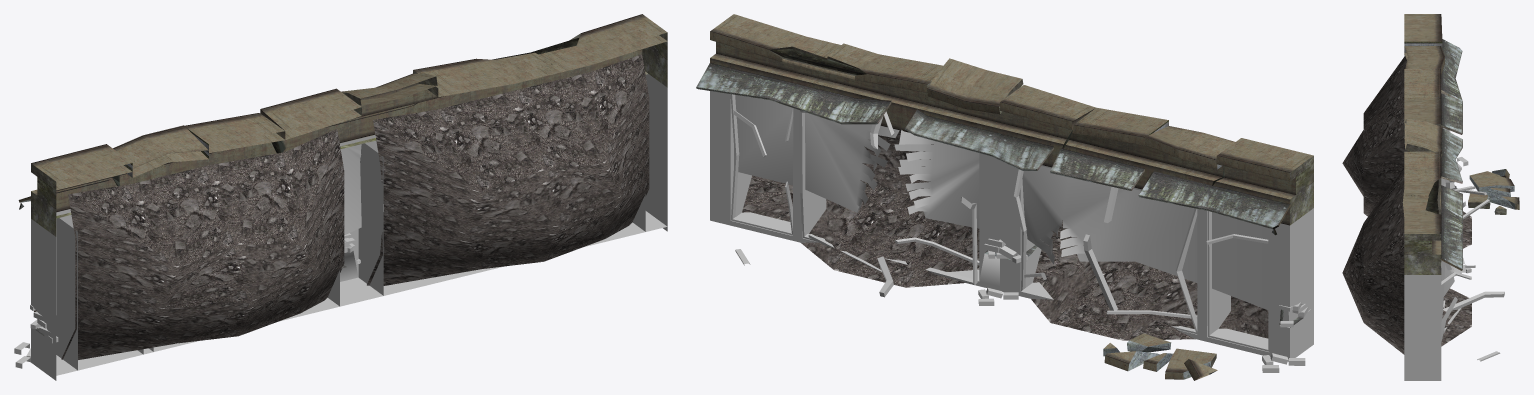
File: Store_front_52.fbx
The picture shows the model from 3 angles, left to right: view 1: azimuth 30°, elevation 25°; view 2: azimuth 150°, elevation 25°; view 3: azimuth 270°, elevation 25°; orthographic projection. The views are drawn at different scales.
Parts seen in each view (by area): view 1: Store_front_52; view 2: Store_front_52; view 3: Store_front_52.
Part boxes in pixels (x1,y1,x2,y2): Store_front_52: (14, 14, 667, 380); Store_front_52: (696, 14, 1313, 380); Store_front_52: (1342, 14, 1519, 380).
Bounding box in the file's own units: 1436 × 463 × 476.
